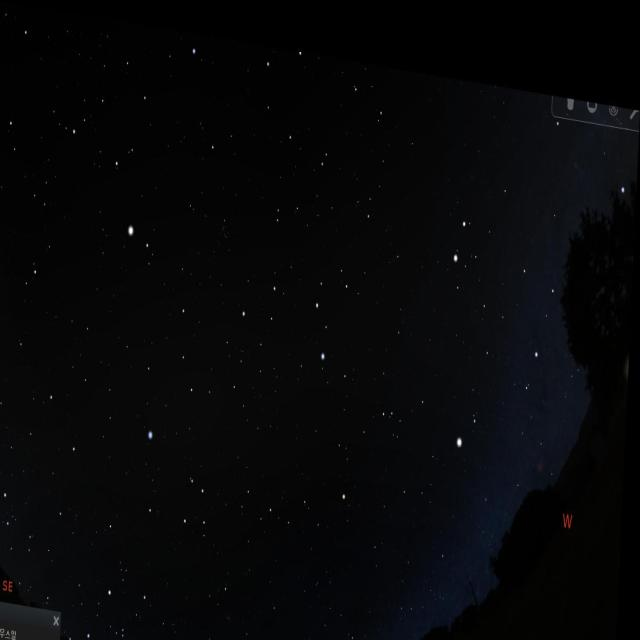bootes: (78, 37, 176, 256)
canis_minor: (447, 383, 488, 448)
gemini: (441, 181, 553, 357)
leo: (234, 235, 374, 388)
